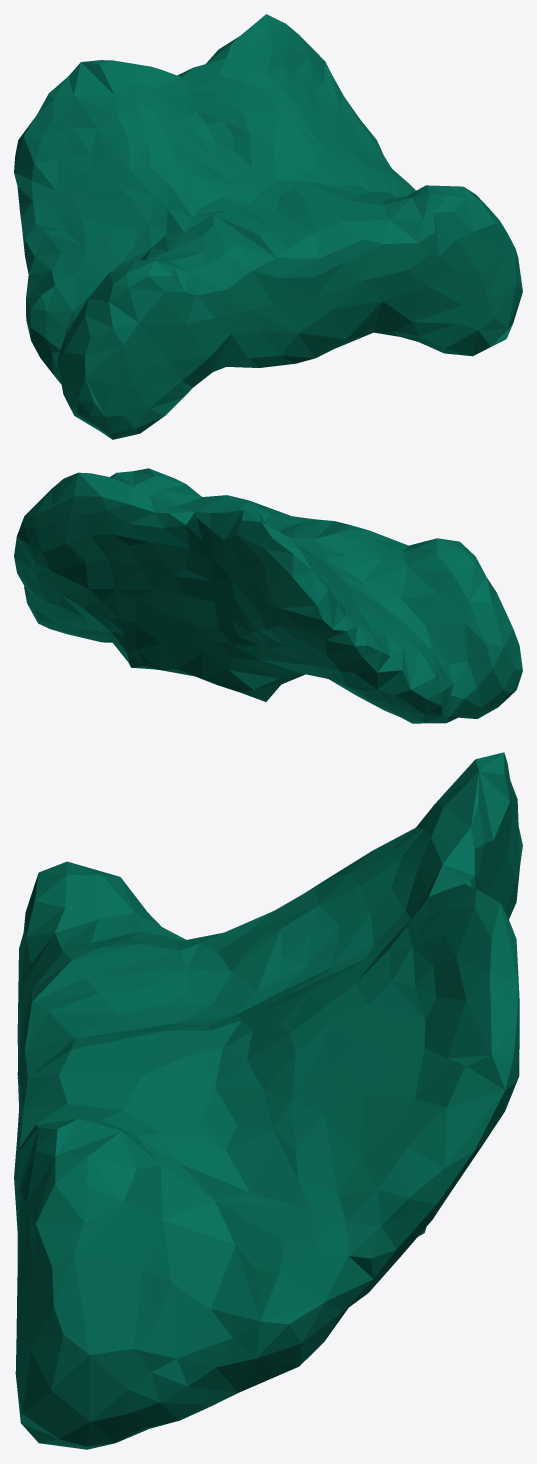
File: 109-31-area 31 of cortex-('0.0000', '0.4980', '0.4000').obj
The picture shows the model from 3 angles, top to bottom: view 1: azimuth 30°, elevation 25°; view 2: azimuth 150°, elevation 25°; view 3: azimuth 270°, elevation 25°; orthographic projection. The views are drawn at different scales.
Size of the model in its own units: 85.2 by 48.76 by 47.83.
